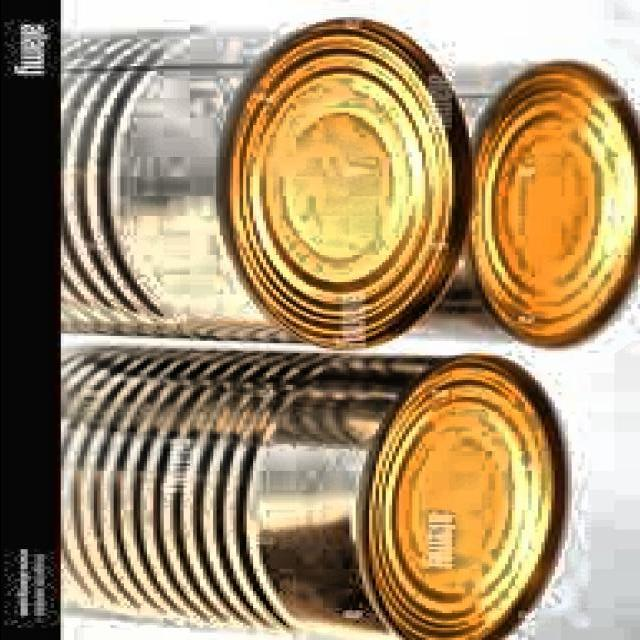litter: (58, 340, 578, 640), (56, 12, 476, 354), (384, 50, 640, 350)
